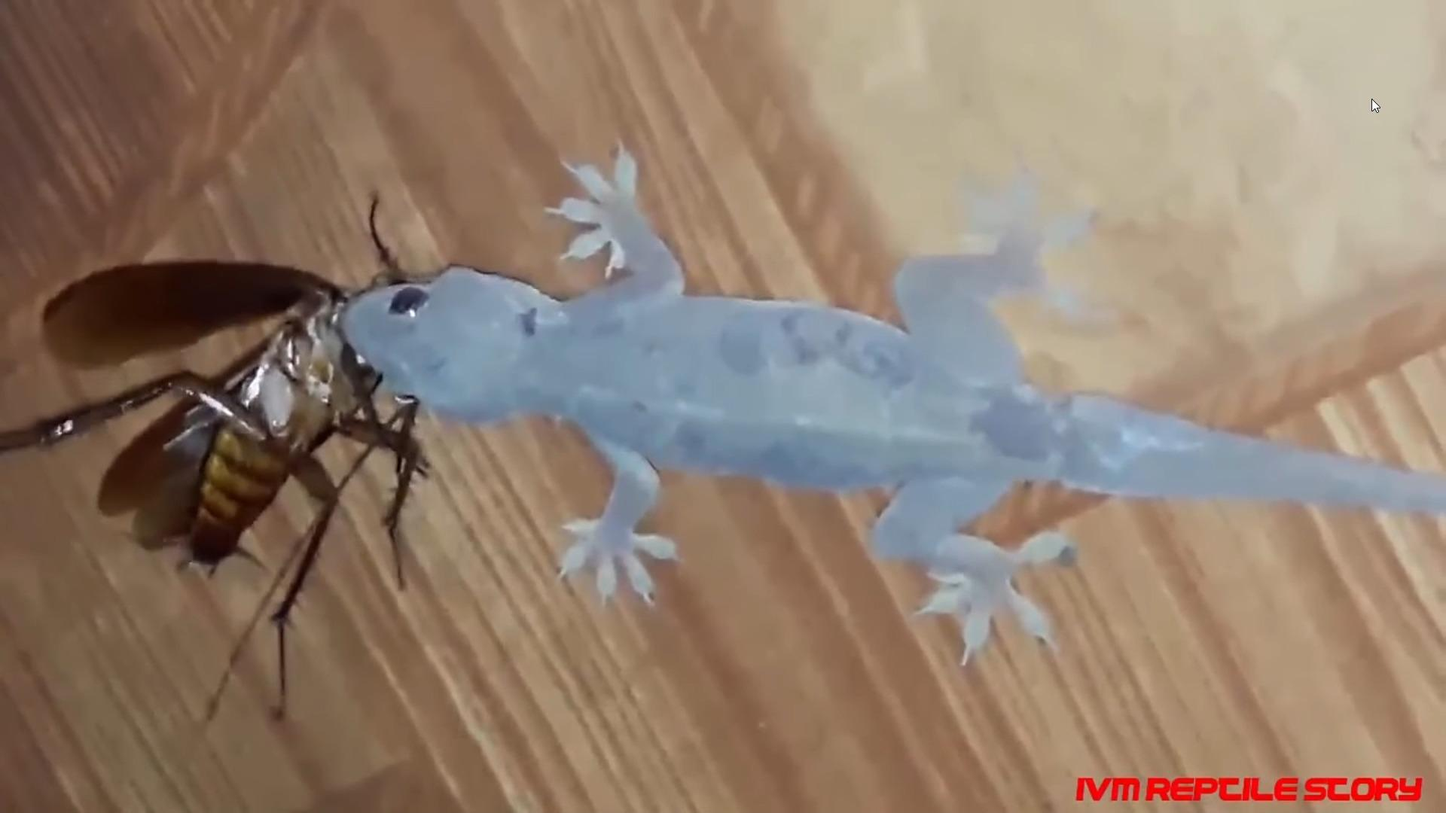cockroach: (101, 304, 356, 642)
lizard: (336, 158, 1415, 675)
